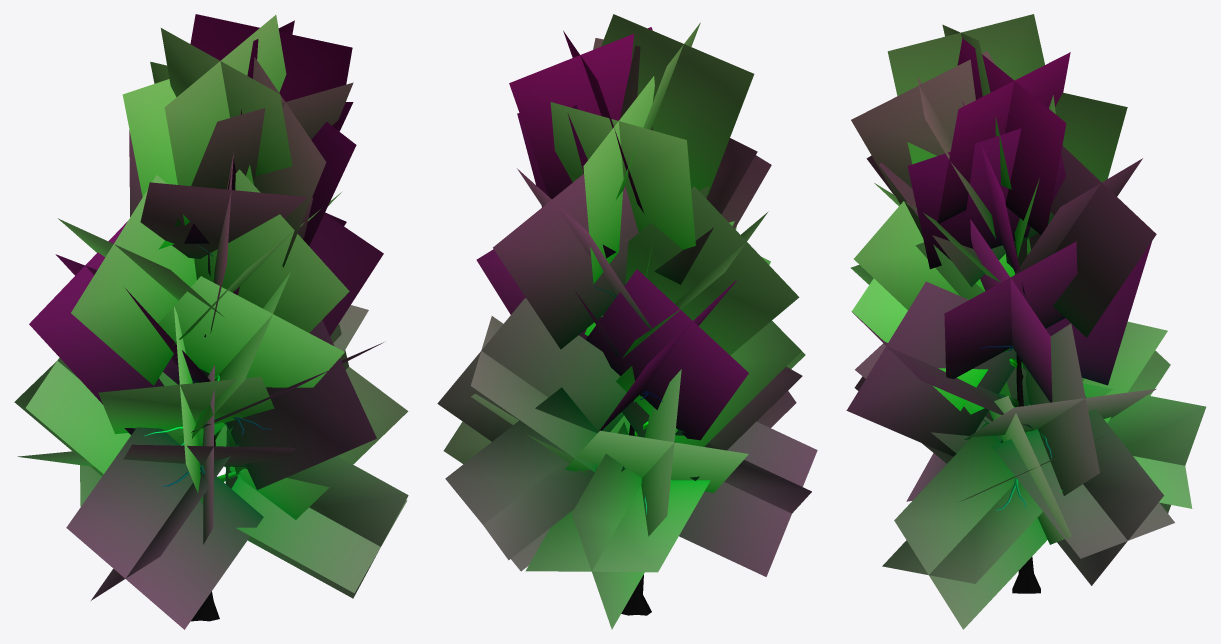
File: M_P1_Tree_19.fbx
3 views of the same model, side by side, from view 1: azimuth 30°, elevation 25°; view 2: azimuth 150°, elevation 25°; view 3: azimuth 270°, elevation 25° (orthographic). The views are drawn at different scales.
Visible parts, largest first — view 1: M_Tree_1_19; view 2: M_Tree_1_19; view 3: M_Tree_1_19.
Part boxes in pixels (x1=…): M_Tree_1_19: x1=14, y1=14, x2=408, y2=629; M_Tree_1_19: x1=437, y1=14, x2=817, y2=629; M_Tree_1_19: x1=846, y1=14, x2=1206, y2=629.
Size of the model in its own units: 663 by 1120 by 641.
